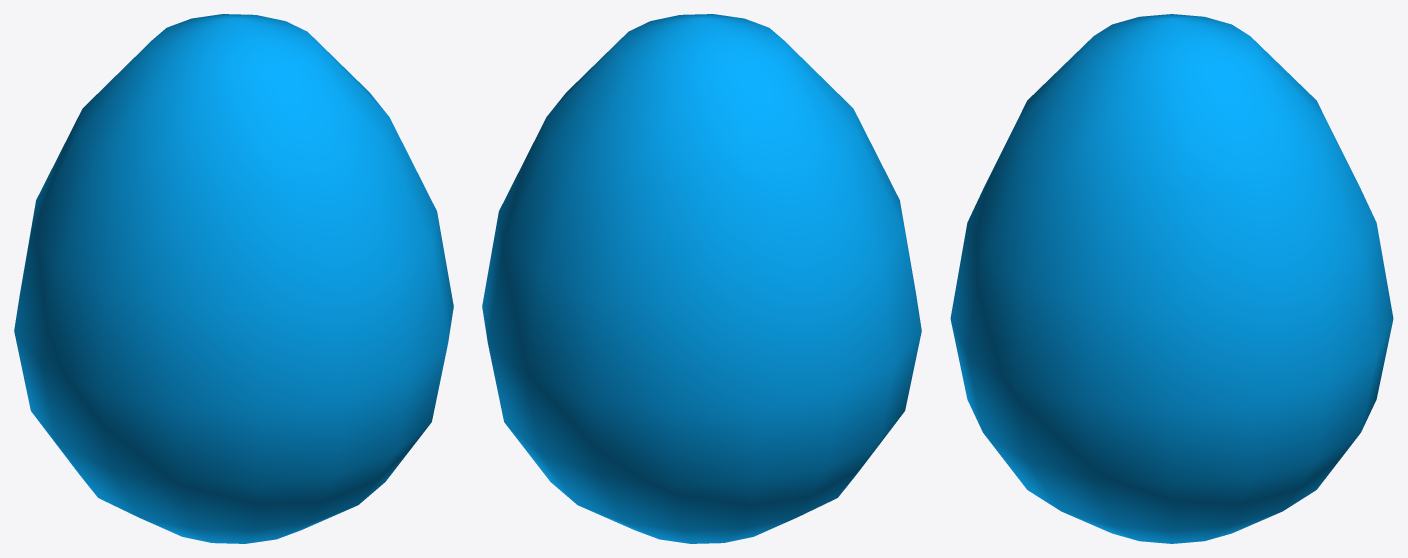
The model's file is eggBlue.glb.
3 views of the same model, side by side, from view 1: azimuth 30°, elevation 25°; view 2: azimuth 150°, elevation 25°; view 3: azimuth 270°, elevation 25° (orthographic).
Parts seen in each view (by area): view 1: Sphere010; view 2: Sphere010; view 3: Sphere010.
Part boxes in pixels (x1,y1,x2,y2): Sphere010: [14, 14, 453, 543]; Sphere010: [482, 14, 921, 543]; Sphere010: [950, 14, 1393, 543].
Bounding box in the file's own units: 0.1403 × 0.1761 × 0.1403.
